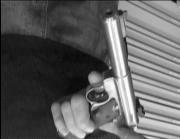gun: (60, 8, 144, 139)
